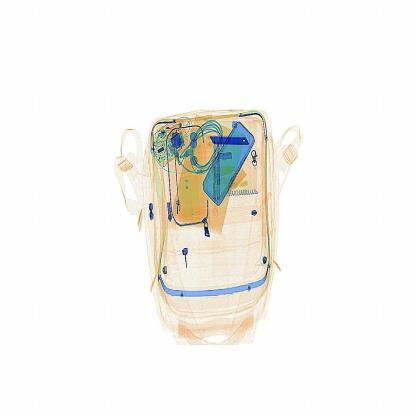pliers: (202, 127, 251, 158)
